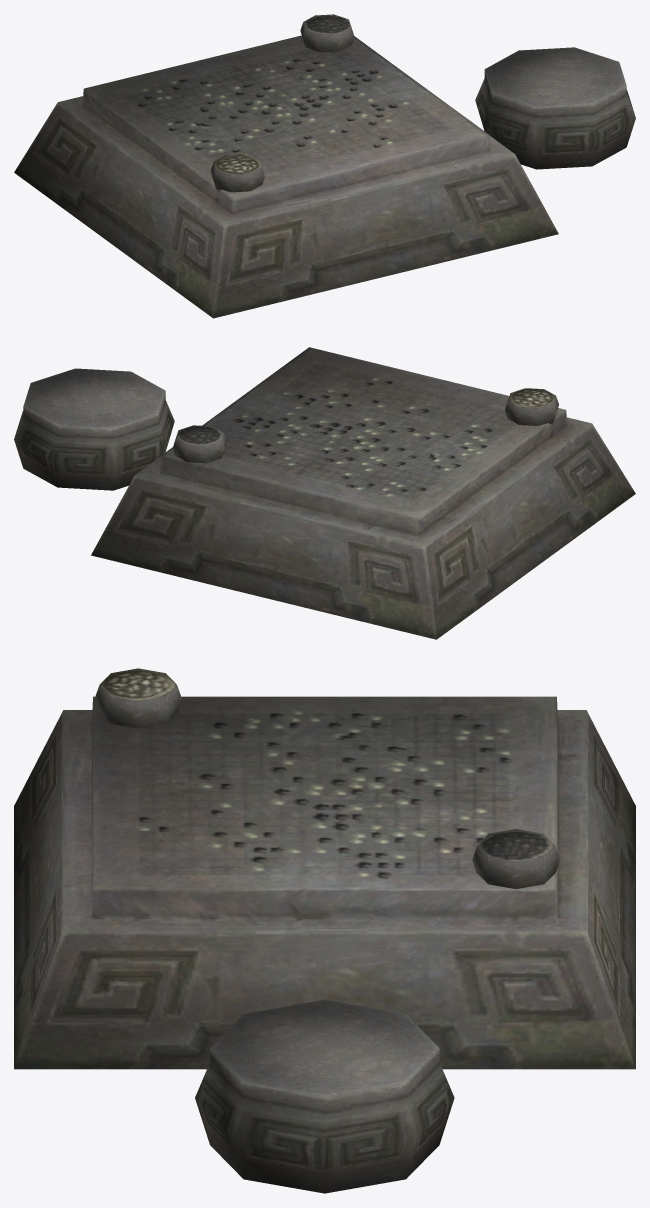
File: environment_Building_qingsangcheng_001_u.FBX
3 renders of one model, top to bottom at view 1: azimuth 30°, elevation 25°; view 2: azimuth 150°, elevation 25°; view 3: azimuth 270°, elevation 25°, orthographic. The views are drawn at different scales.
Parts seen in each view (by area): view 1: environment_Building_qingsangcheng_001_u1, environment_Building_qingsangcheng_001_u2; view 2: environment_Building_qingsangcheng_001_u1, environment_Building_qingsangcheng_001_u2; view 3: environment_Building_qingsangcheng_001_u1, environment_Building_qingsangcheng_001_u2.
Part boxes in pixels (bbox=[...]): environment_Building_qingsangcheng_001_u1: bbox=[14, 14, 558, 318]; environment_Building_qingsangcheng_001_u2: bbox=[475, 47, 635, 169]; environment_Building_qingsangcheng_001_u1: bbox=[91, 347, 635, 639]; environment_Building_qingsangcheng_001_u2: bbox=[14, 368, 174, 490]; environment_Building_qingsangcheng_001_u1: bbox=[14, 668, 635, 1069]; environment_Building_qingsangcheng_001_u2: bbox=[195, 999, 454, 1193].
Size of the model in its own units: 439 by 295 by 91.66.
1 material, 1 textured.
